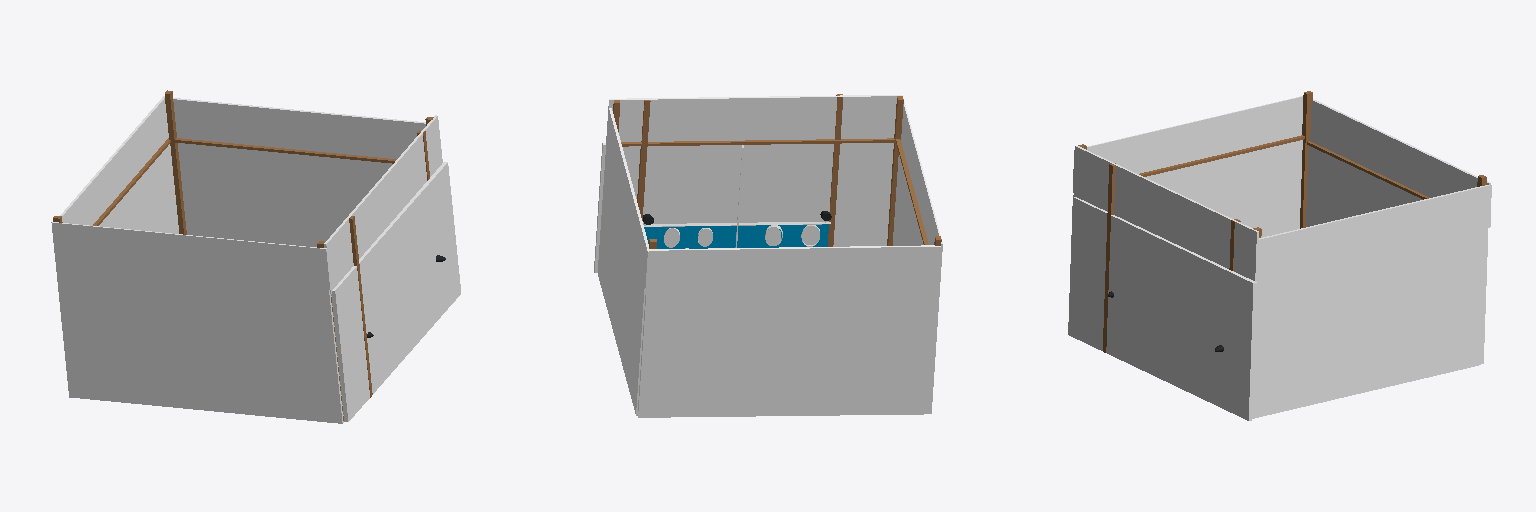
The model's file is roomNewSceme.obj.
3 renders of one model, left to right at view 1: azimuth 30°, elevation 25°; view 2: azimuth 150°, elevation 25°; view 3: azimuth 270°, elevation 25°, orthographic.
Visible parts, largest first — view 1: room; view 2: room; view 3: room.
Part boxes in pixels (x1,y1,x2,y2): room: (51,90,460,423); room: (594,94,942,417); room: (1068,91,1491,420).
Size of the model in its own units: 299 by 161 by 289.